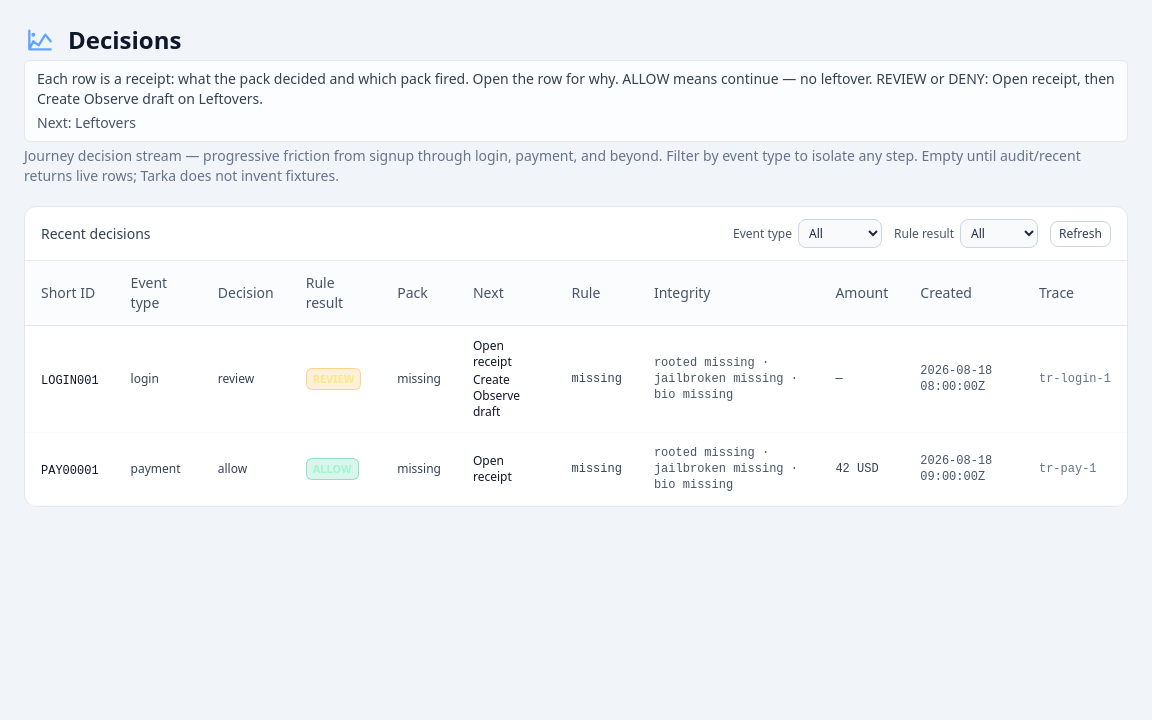
Test: Decisions stream › filters by event type
Select "login" in the dropdown with test id "filter-event-type" at (840, 234), box [798,219,882,248]
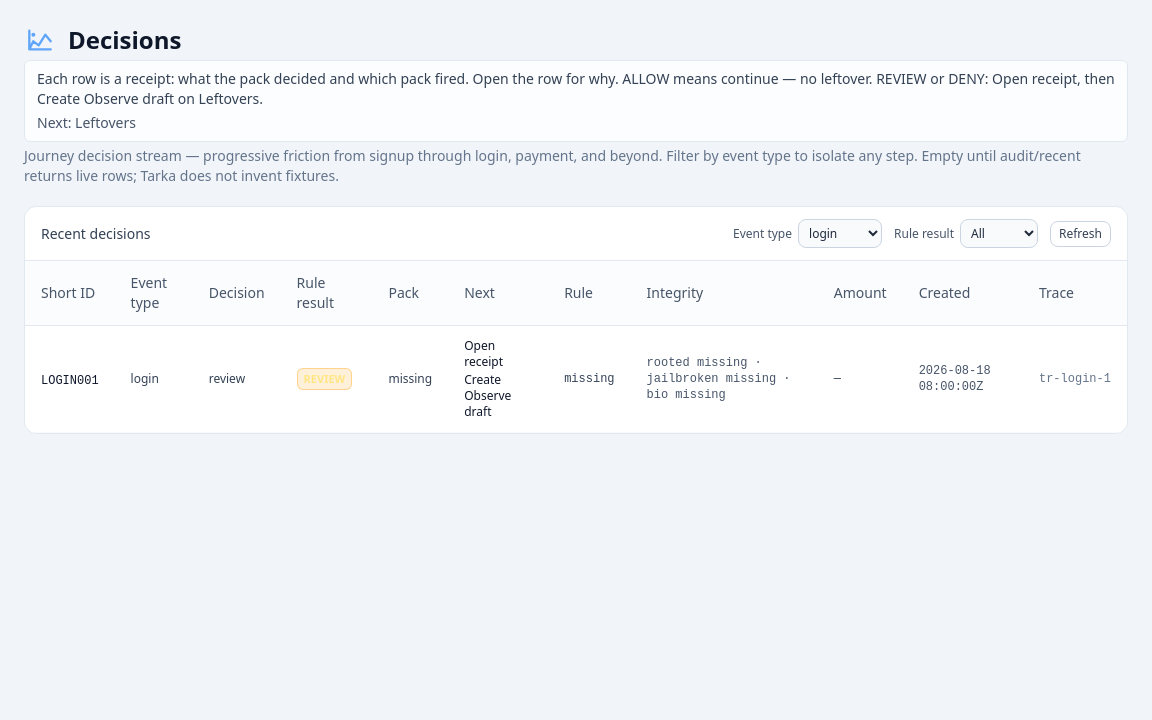
Expected: the link with test id "decisions-row-tr-login-1" is shown, [25,326,1127,432]
Expected: the link with test id "decisions-row-tr-pay-1" is gone
